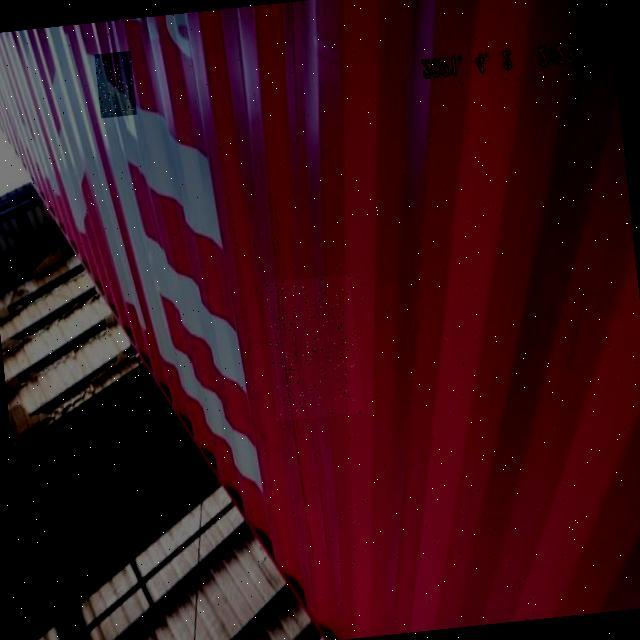Dent: (262, 274, 364, 421)
Minor-Dent: (94, 51, 136, 118)
